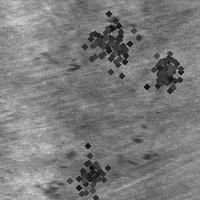rolled-in_scale: (74, 8, 142, 76), (33, 144, 101, 200), (61, 147, 119, 200), (37, 13, 81, 80), (137, 47, 185, 95)
